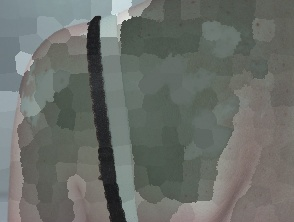vitiligo: (11, 53, 78, 144)
